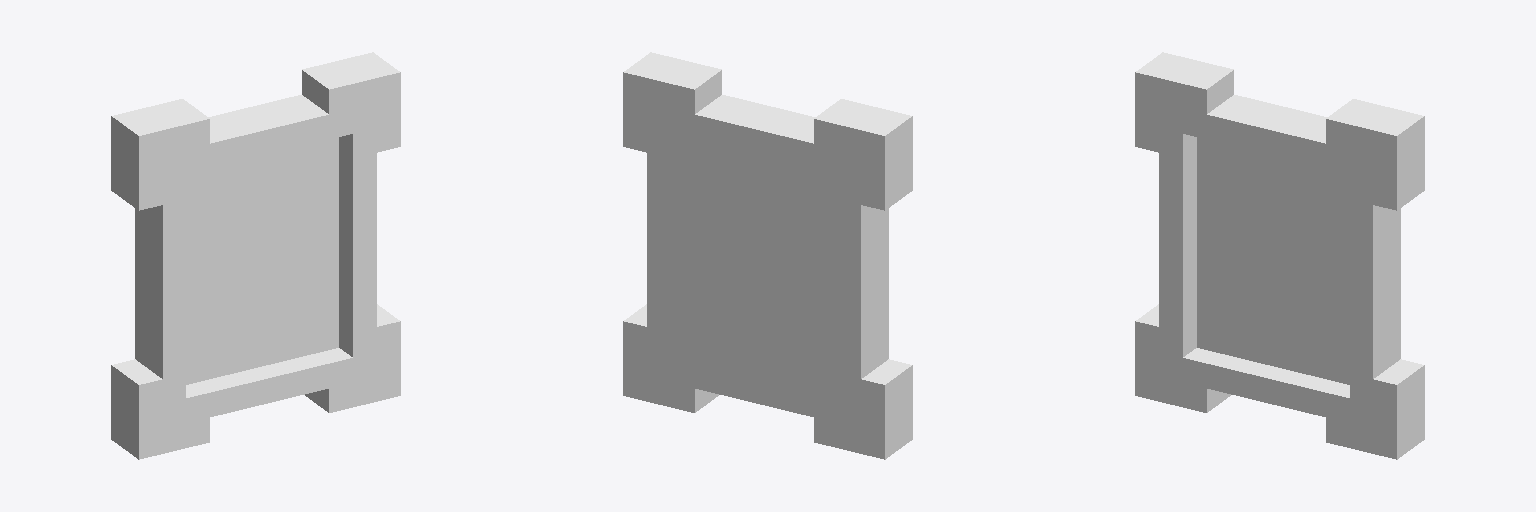
File: pic3.obj
3 renders of one model, left to right at view 1: azimuth 30°, elevation 25°; view 2: azimuth 150°, elevation 25°; view 3: azimuth 330°, elevation 25°, orthographic.
Parts seen in each view (by area): view 1: object 1; view 2: object 1; view 3: object 1.
Part boxes in pixels (x1,y1,x2,y2): object 1: (111, 52, 400, 459); object 1: (623, 52, 912, 459); object 1: (1135, 52, 1424, 459).
Size of the model in its own units: 1.1 by 1.3 by 0.2.